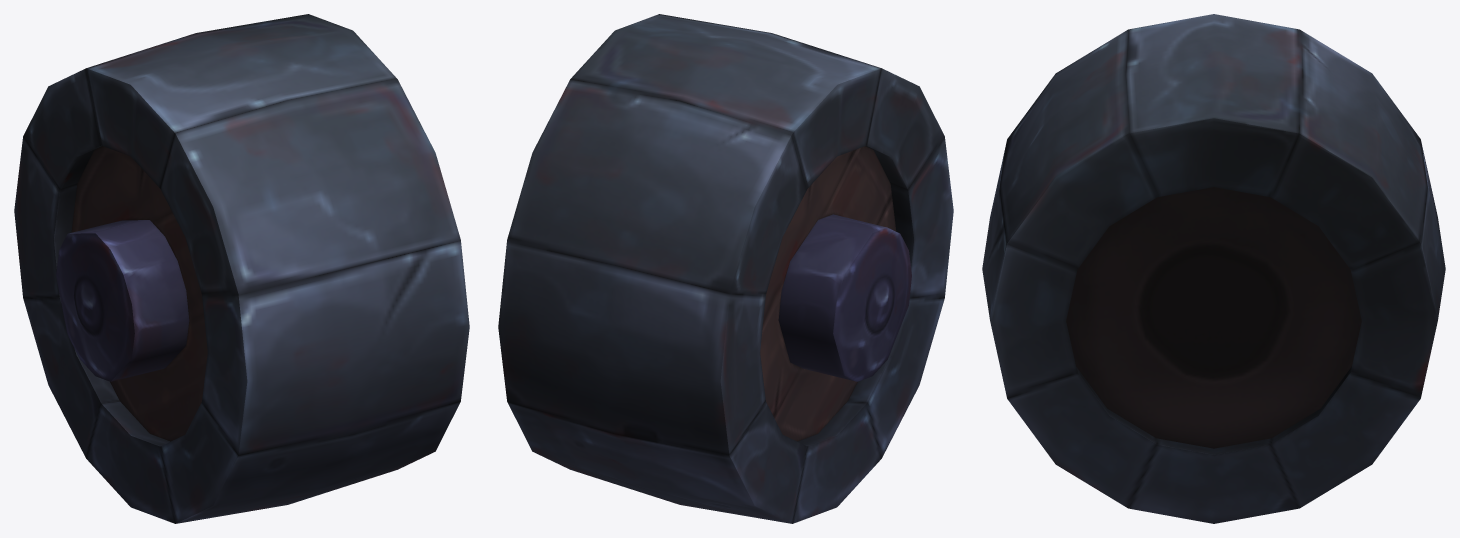
The model's file is wm_wheel_metal.fbx.
3 views of the same model, side by side, from view 1: azimuth 30°, elevation 25°; view 2: azimuth 150°, elevation 25°; view 3: azimuth 270°, elevation 25° (orthographic). The views are drawn at different scales.
Parts seen in each view (by area): view 1: wm_wheel_metal; view 2: wm_wheel_metal; view 3: wm_wheel_metal.
Part boxes in pixels (x1,y1,x2,y2): wm_wheel_metal: (14, 14, 469, 523); wm_wheel_metal: (498, 14, 953, 523); wm_wheel_metal: (982, 14, 1445, 523).
Bounding box in the file's own units: 0.5202 × 0.8087 × 0.8087.
